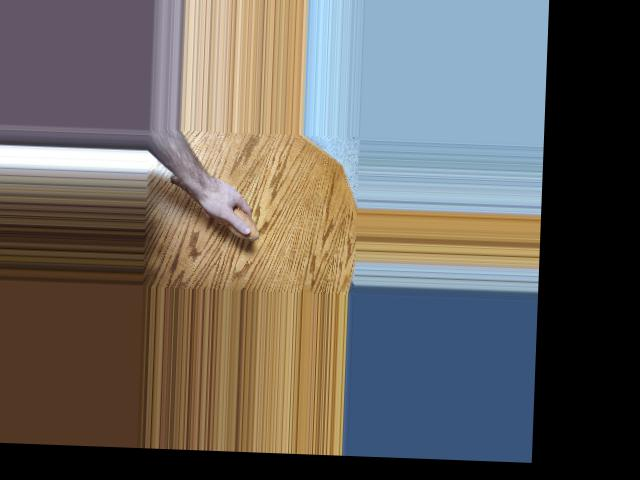sweet_potato: (169, 175, 262, 241)
